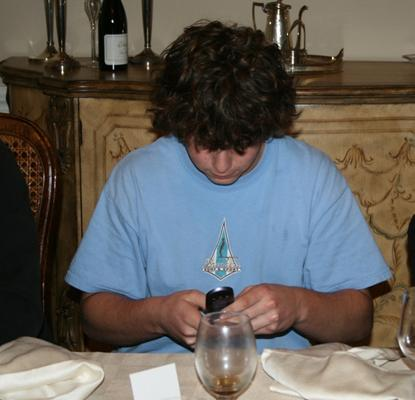person: (65, 21, 393, 357)
